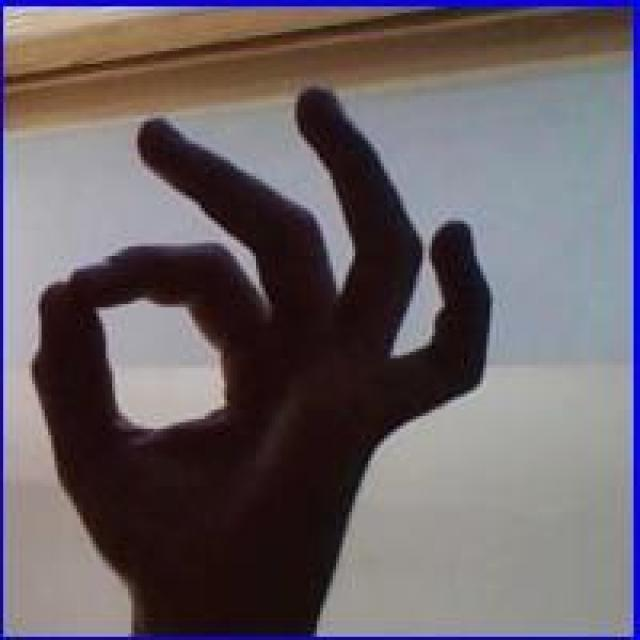F: (30, 77, 508, 627)
